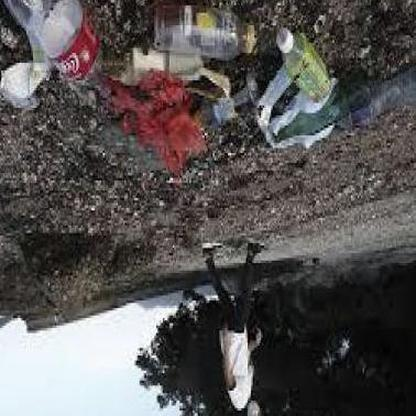plastic bottle: (274, 84, 370, 141), (155, 5, 255, 54), (276, 29, 329, 103), (95, 49, 201, 81)
